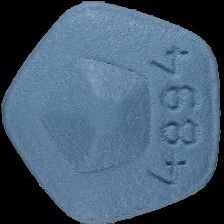0007-4894: (0, 0, 224, 224)
